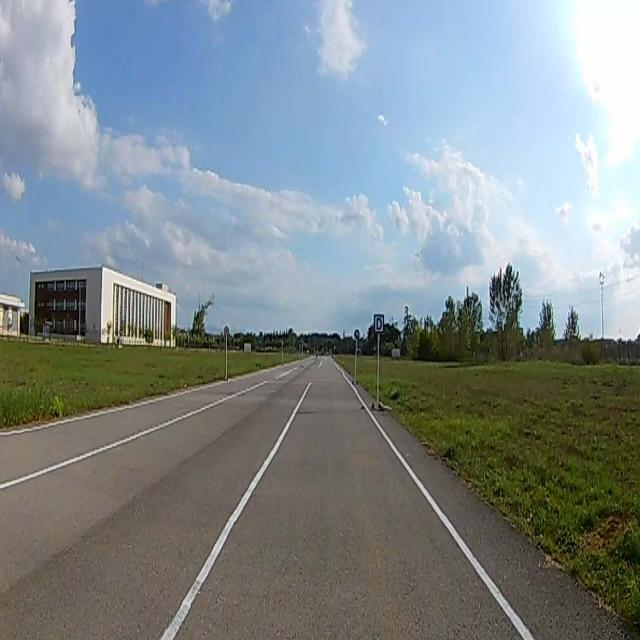durak: (374, 316, 384, 334)
